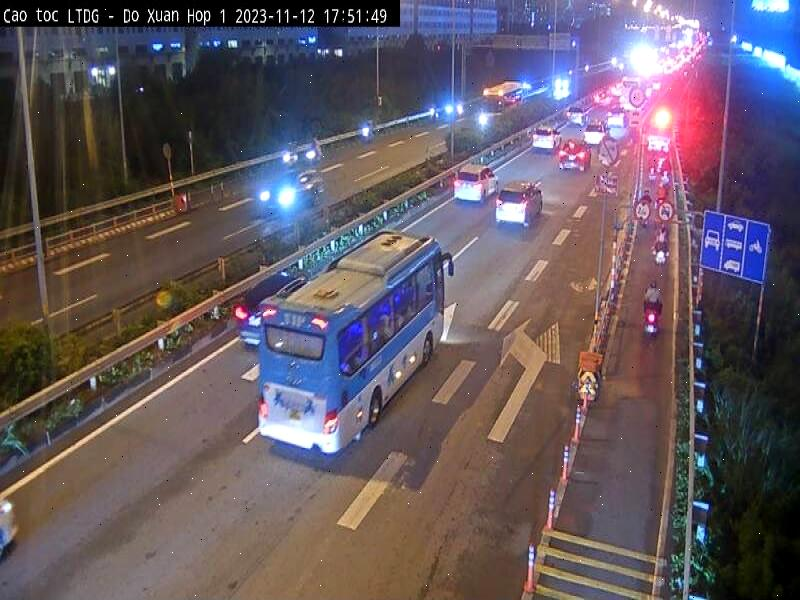bus: (258, 230, 456, 454)
